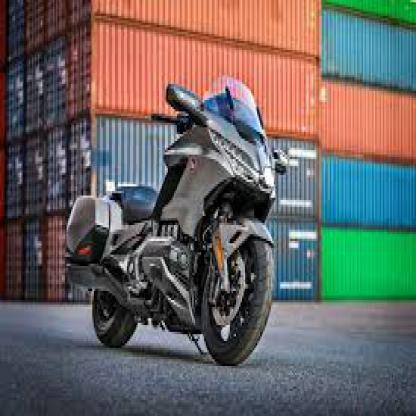Motorcycle: (65, 76, 279, 355)
